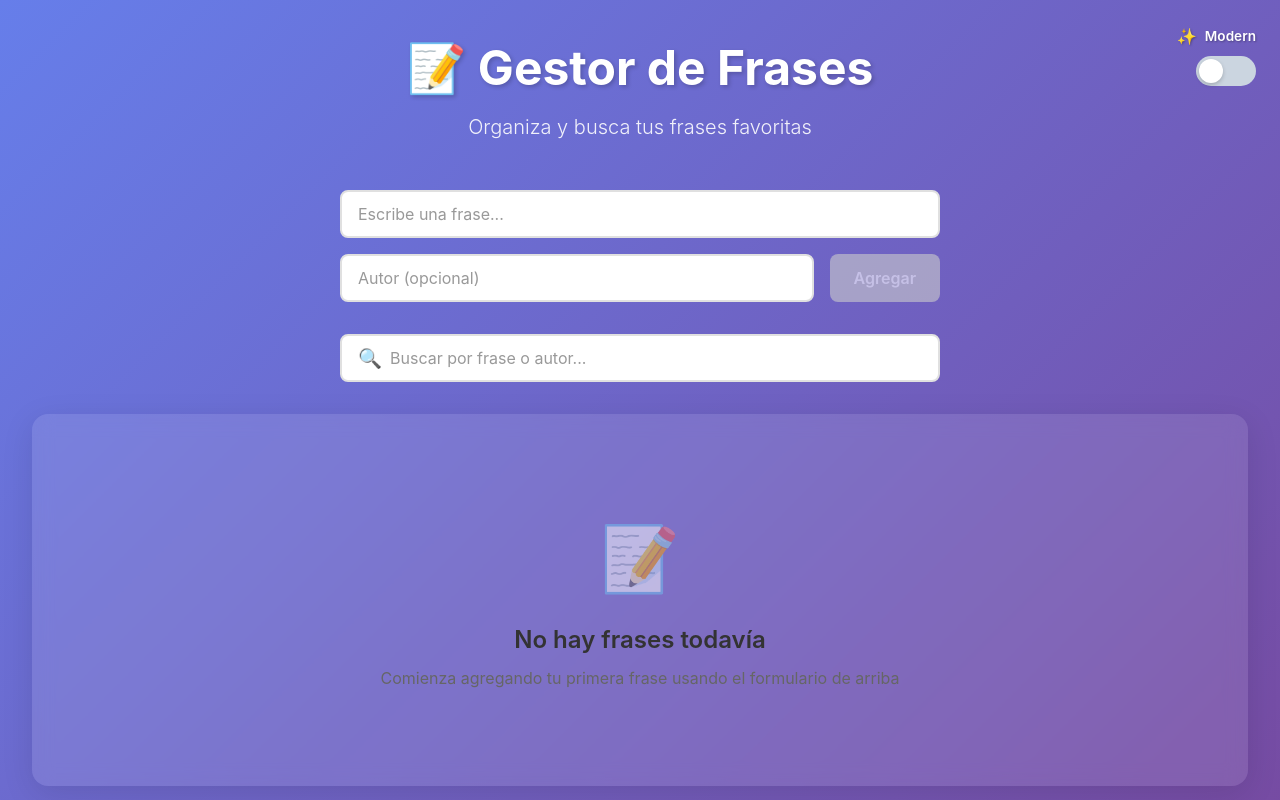
Test case: App - Integration Tests › should clear search when clear button is clicked
In the field with placeholder "Escribe una frase...": (640, 214) 340,190 -> 940,238, type "Frase uno"
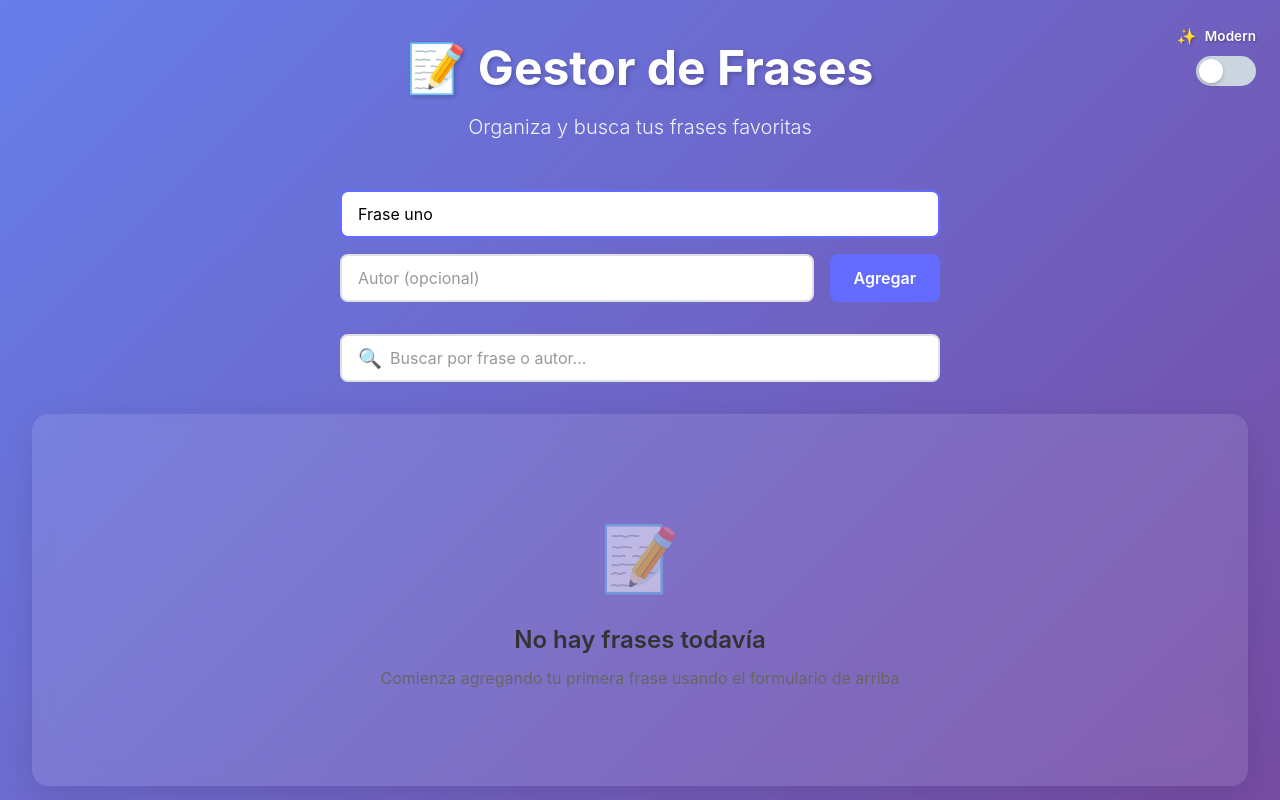
Click the button "Agregar": (885, 278) 830,254 -> 940,302
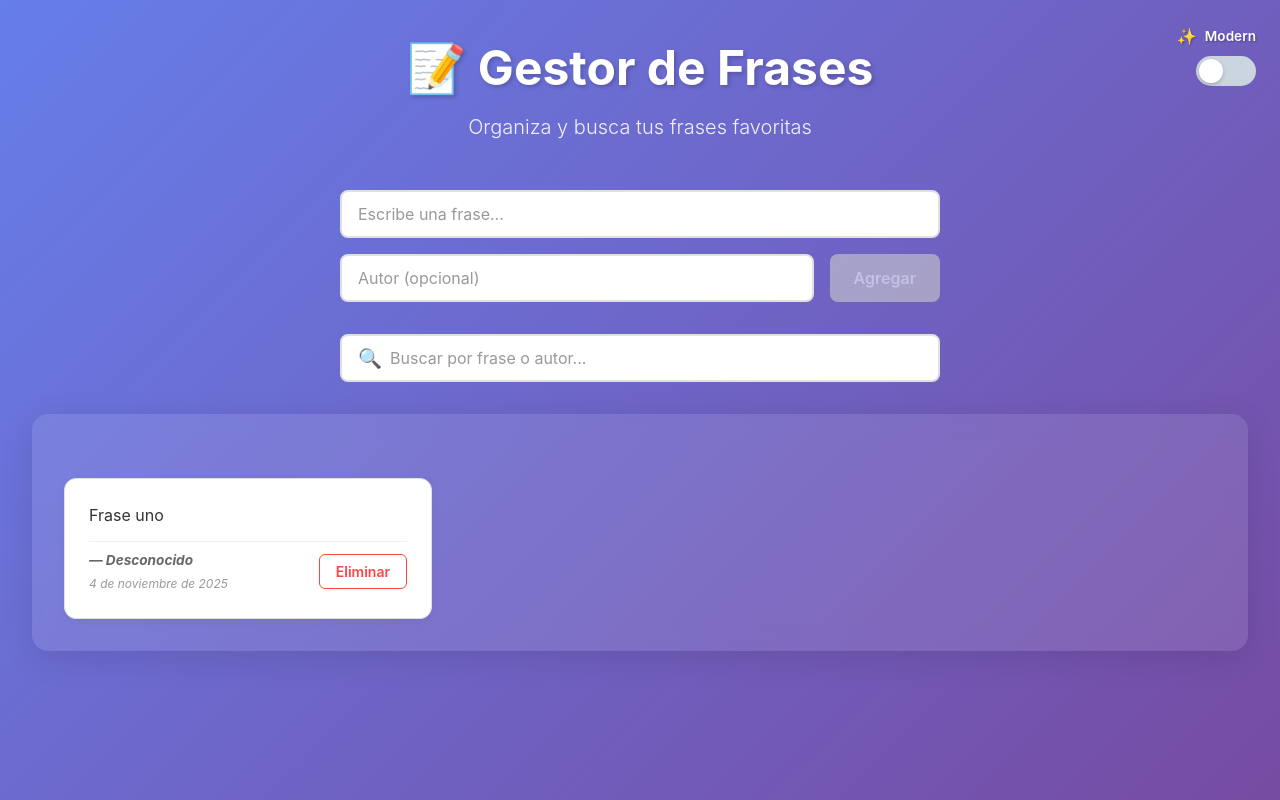
In the field with placeholder "Escribe una frase...": (640, 214) 340,190 -> 940,238, type "Frase dos"
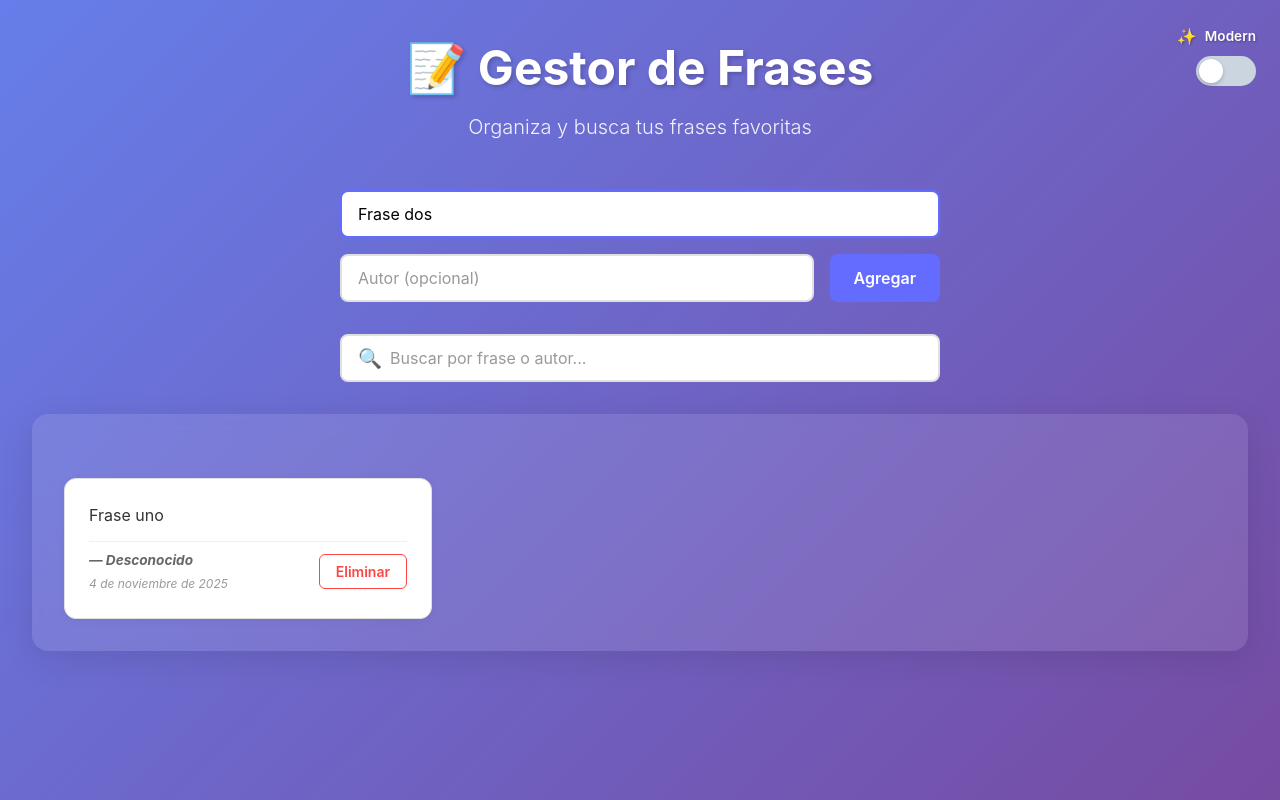
Click the button "Agregar": (885, 278) 830,254 -> 940,302
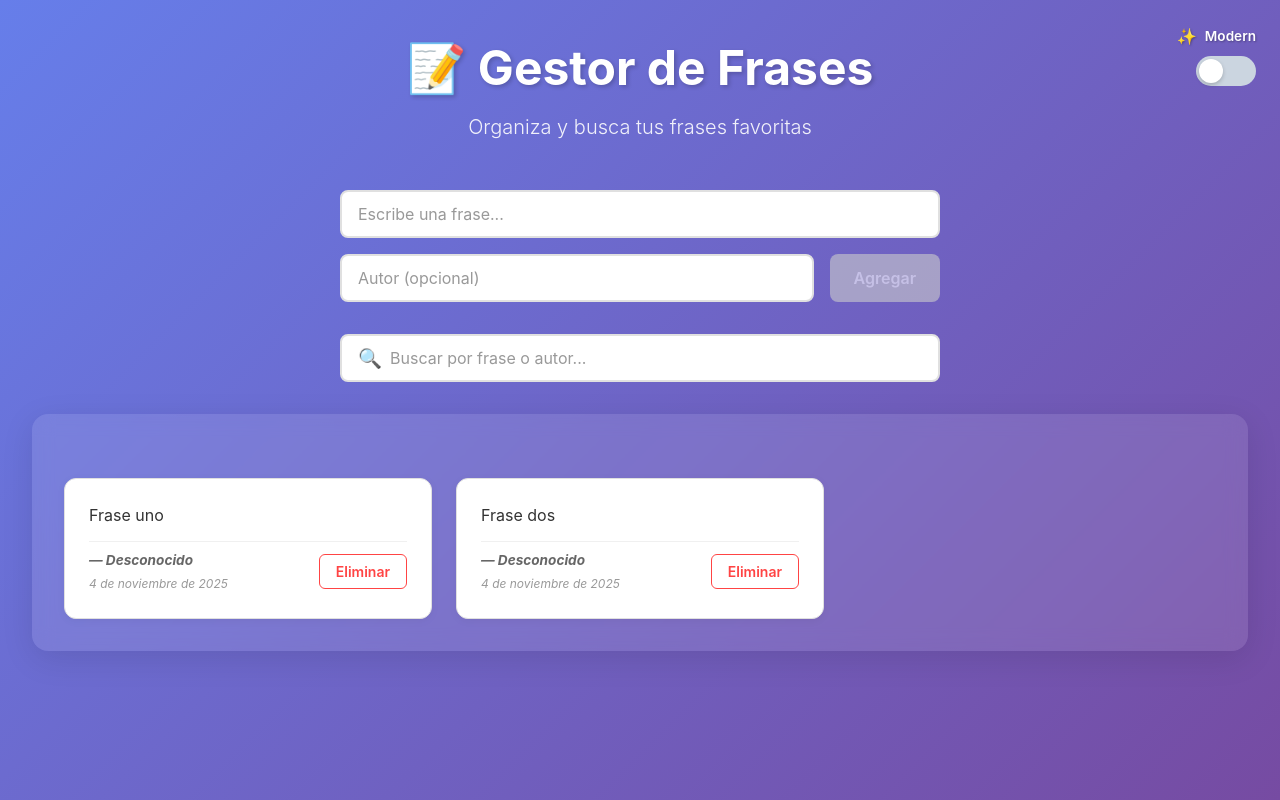
In the field with placeholder "Buscar por frase o autor...": (640, 358) 342,336 -> 938,380, type "uno"
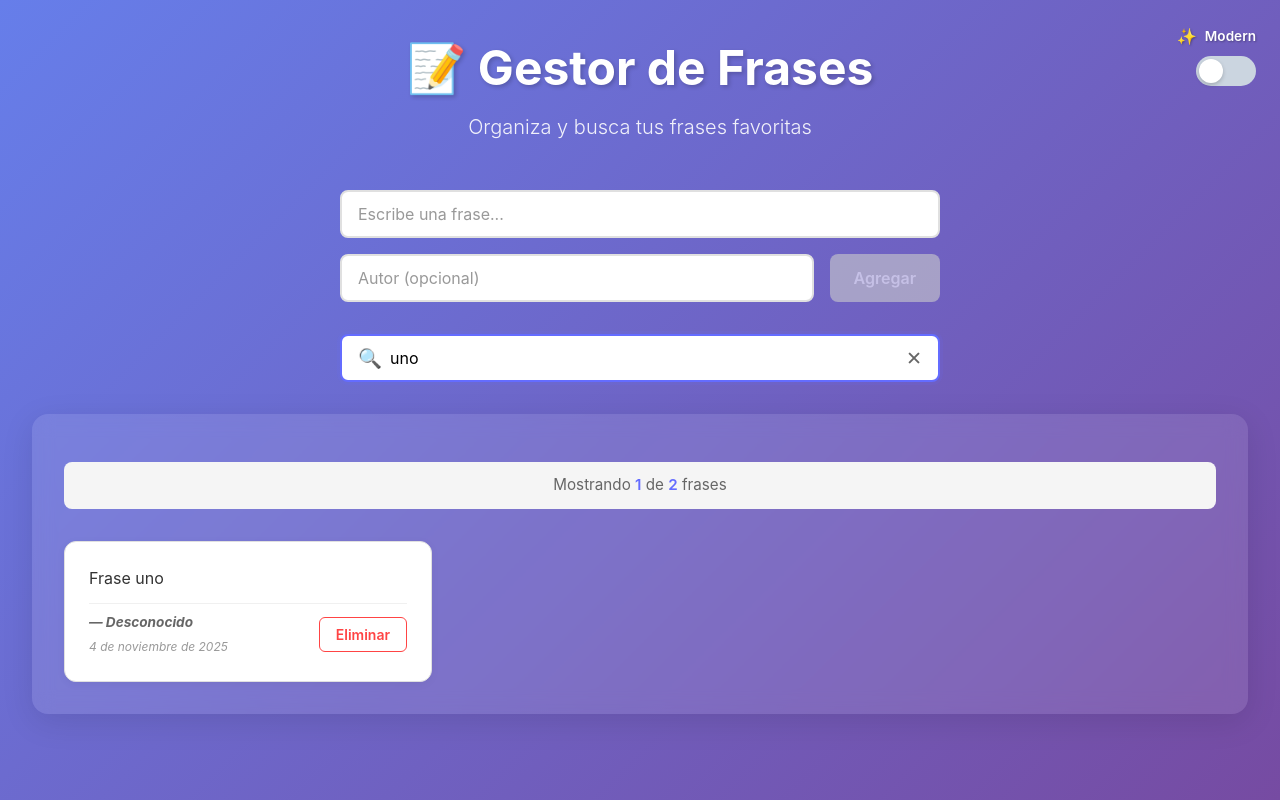
Expected: the text "Frase uno" is shown, 89,568 -> 164,588
Expected: the text "Frase dos" is gone
Limpiar búsqueda
Click the button named "limpiar búsqueda": (914, 358) 898,338 -> 930,378
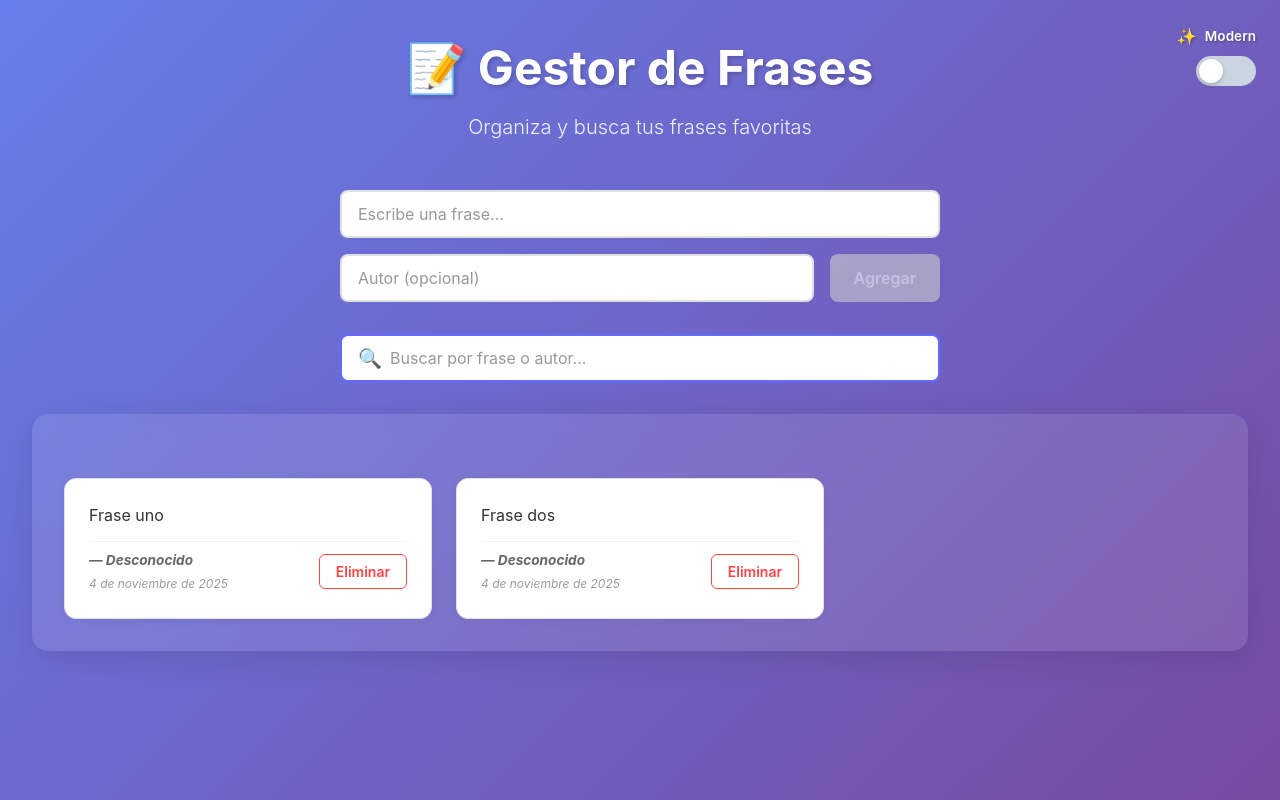
Expected: the text "Frase uno" is shown, 89,505 -> 164,525
Expected: the text "Frase dos" is shown, 481,505 -> 555,525
